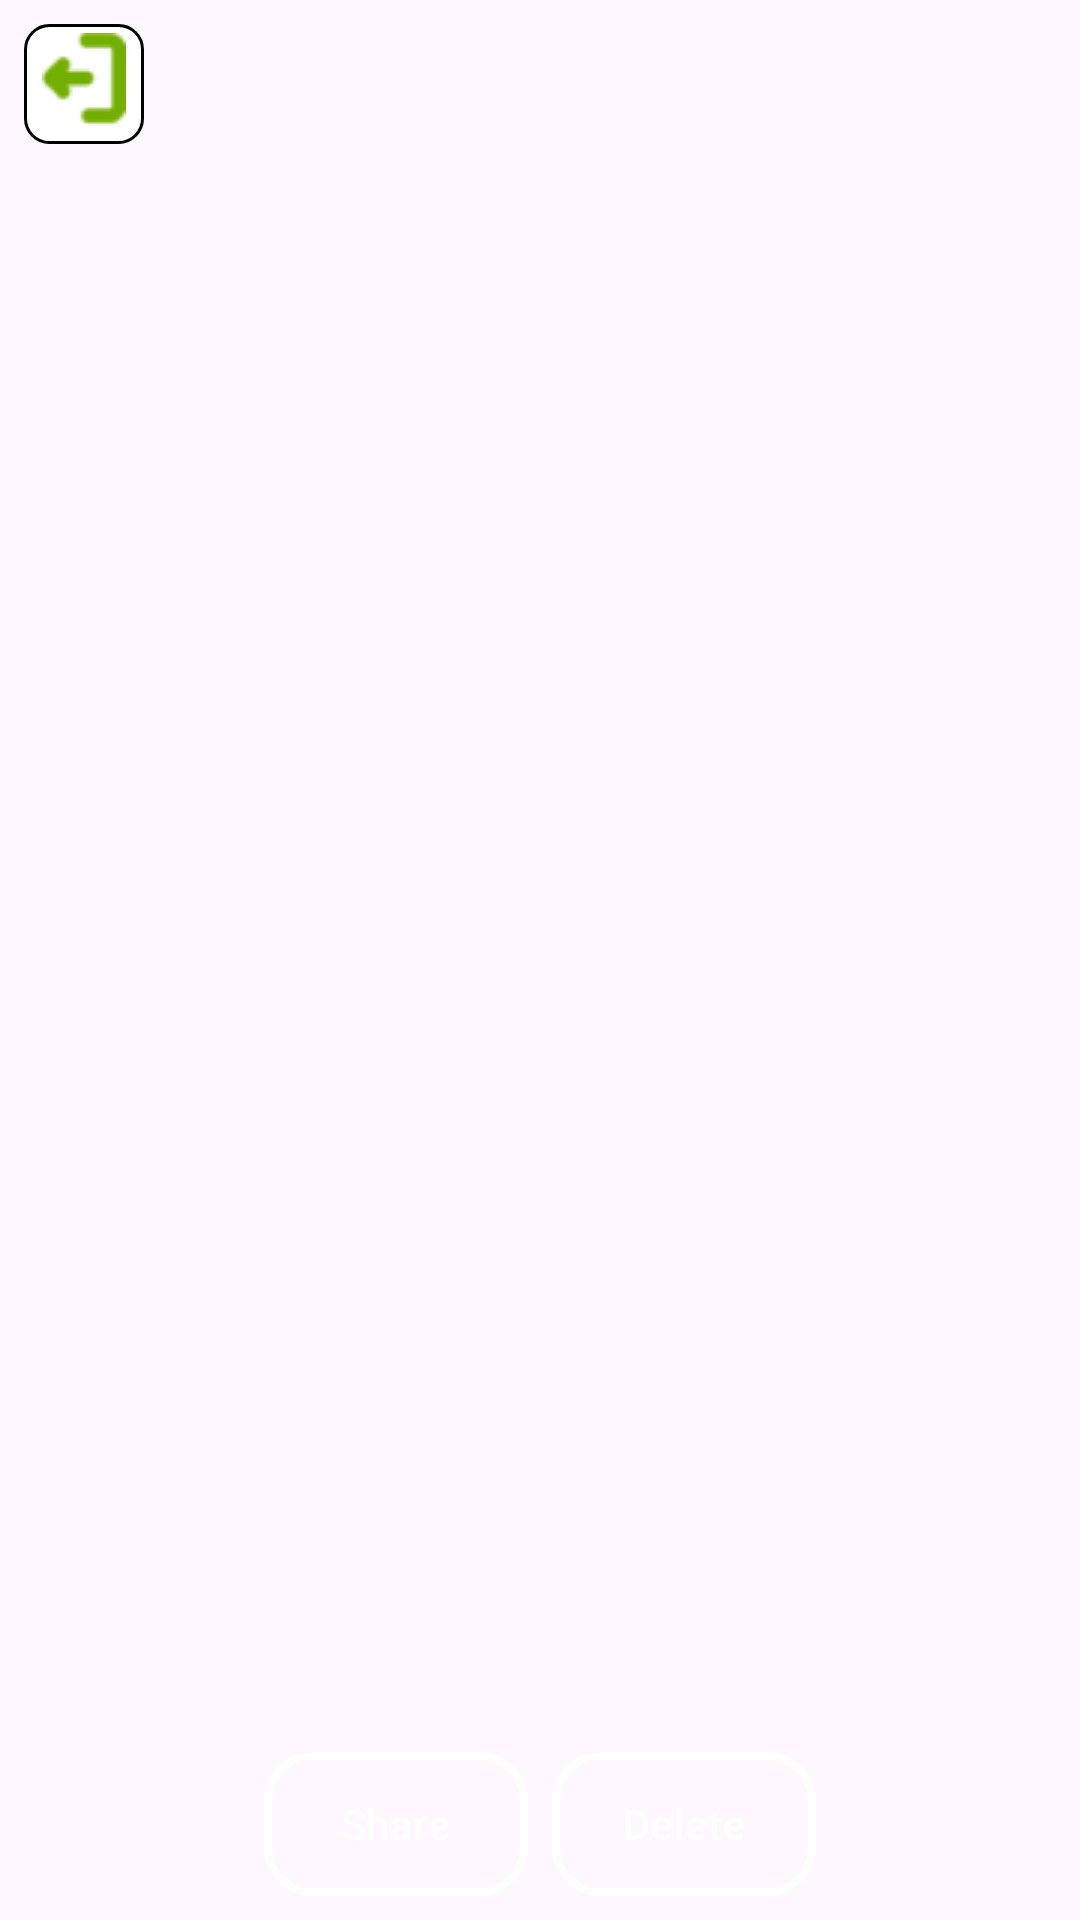

Where to tap for icons on this 1080 x 1920 app screen, as point (x, y):
back: point (84, 84)
